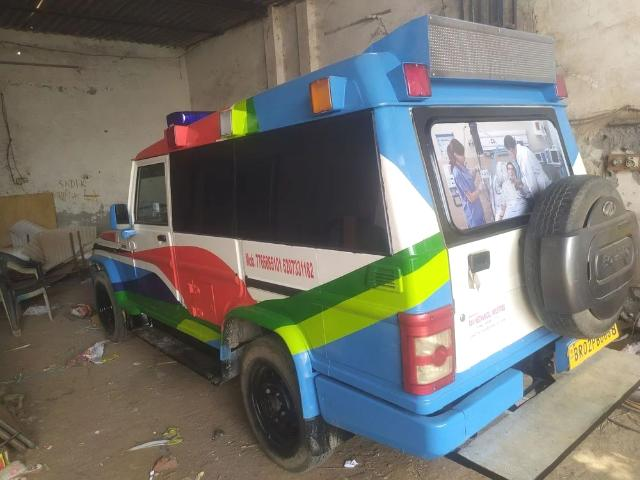ambulance: (84, 12, 640, 474)
